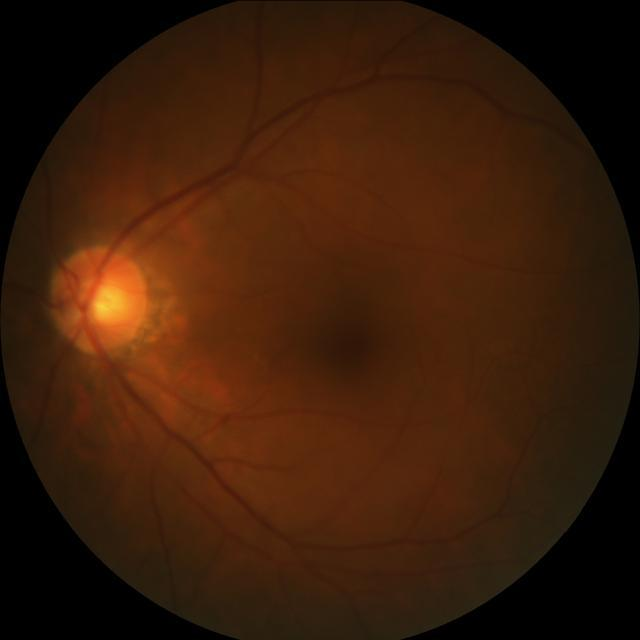OC: (90, 284, 126, 322)
OD: (46, 242, 150, 354)
